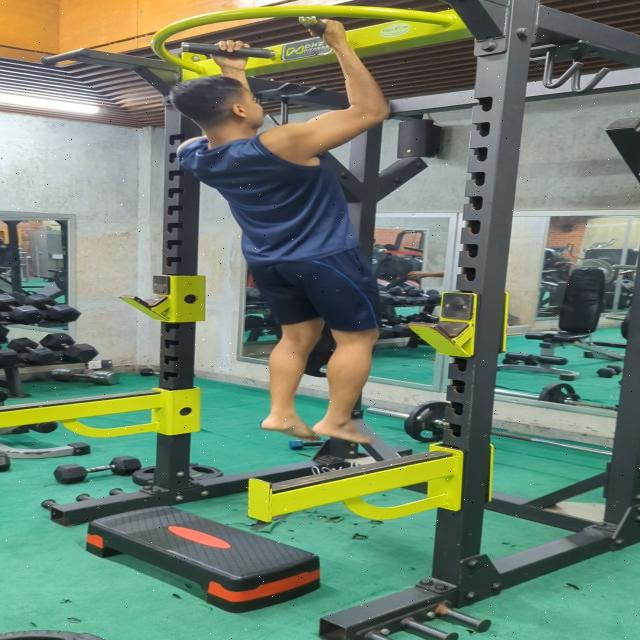Normal_PullUps: (163, 15, 397, 447)
